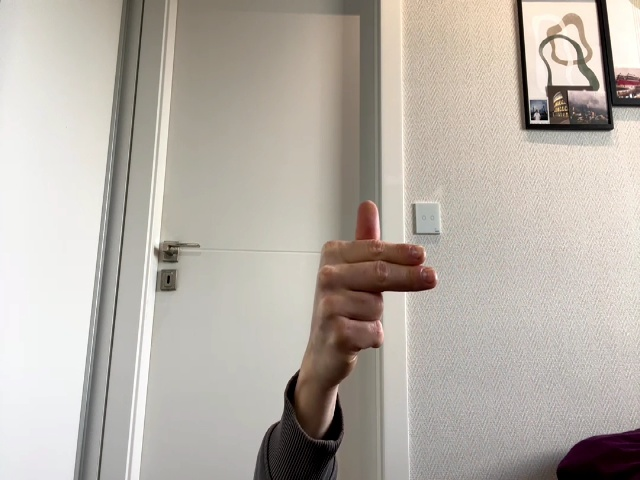N: (314, 200, 437, 378)
